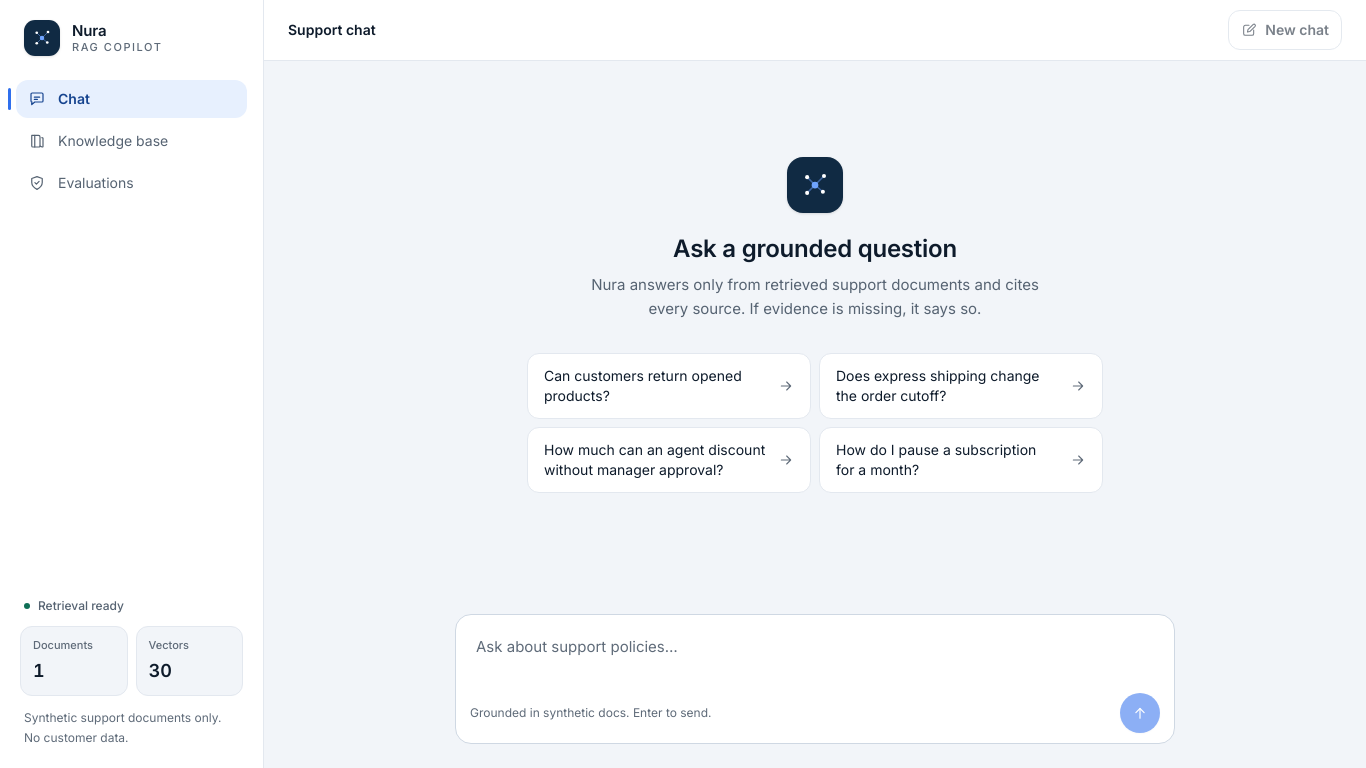
RagVisibilityDashboard › clears the transcript when a new chat is started
Type "Can customers return opened products?" into the text box named "Question" at [815, 655], box [464,623,1166,687]
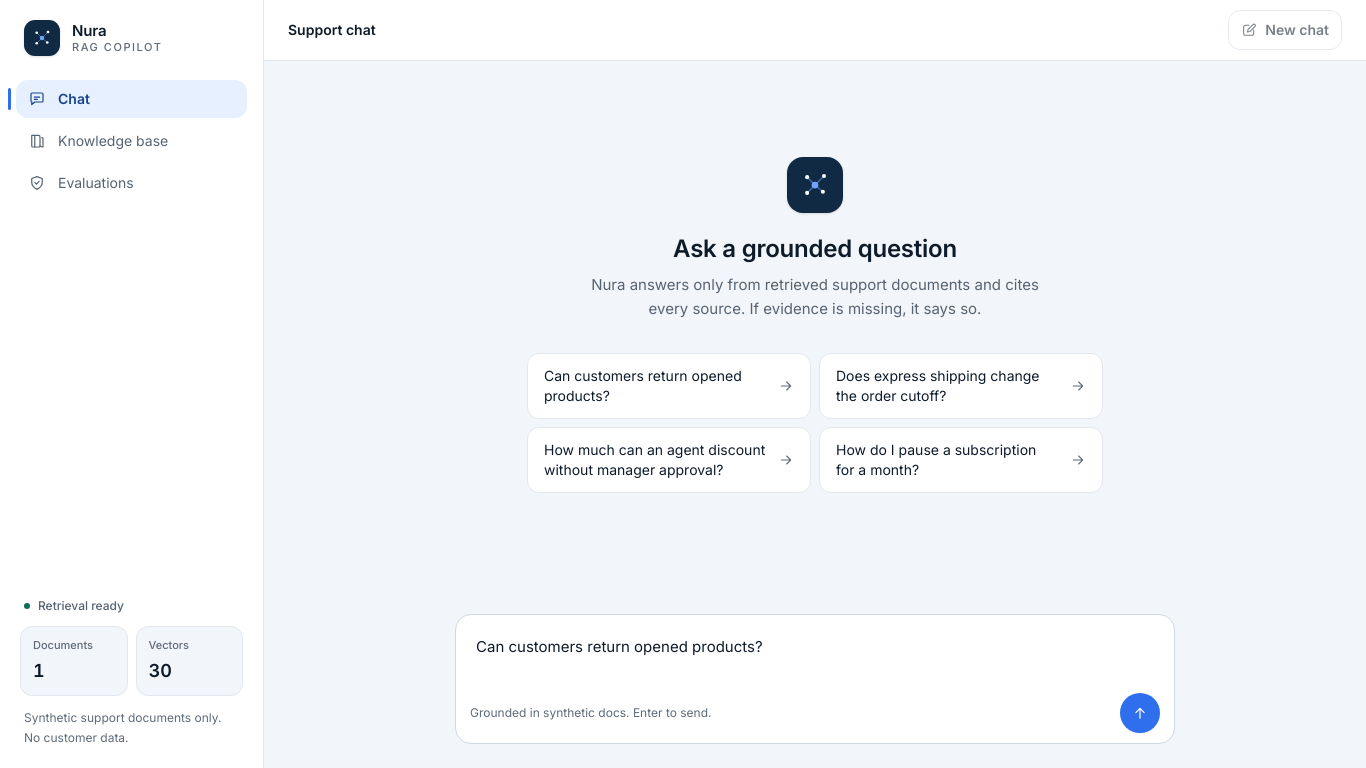
Click the button named "Generate answer" at [1140, 713], box [1120,693,1160,733]
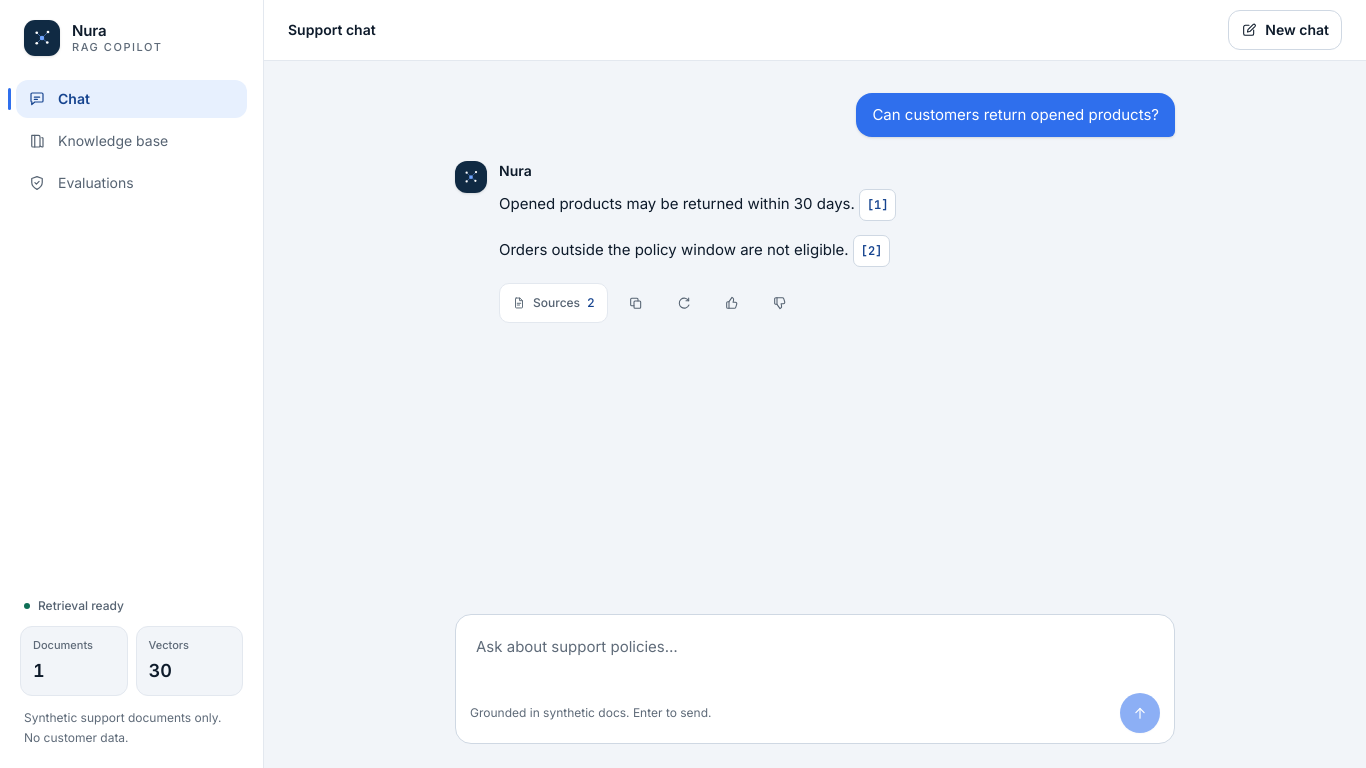
Result: the text "Opened products may be returned within 30 days." is shown at [499,194,855,213]
Click the button "New chat" at [1285, 30], box [1228,10,1342,50]
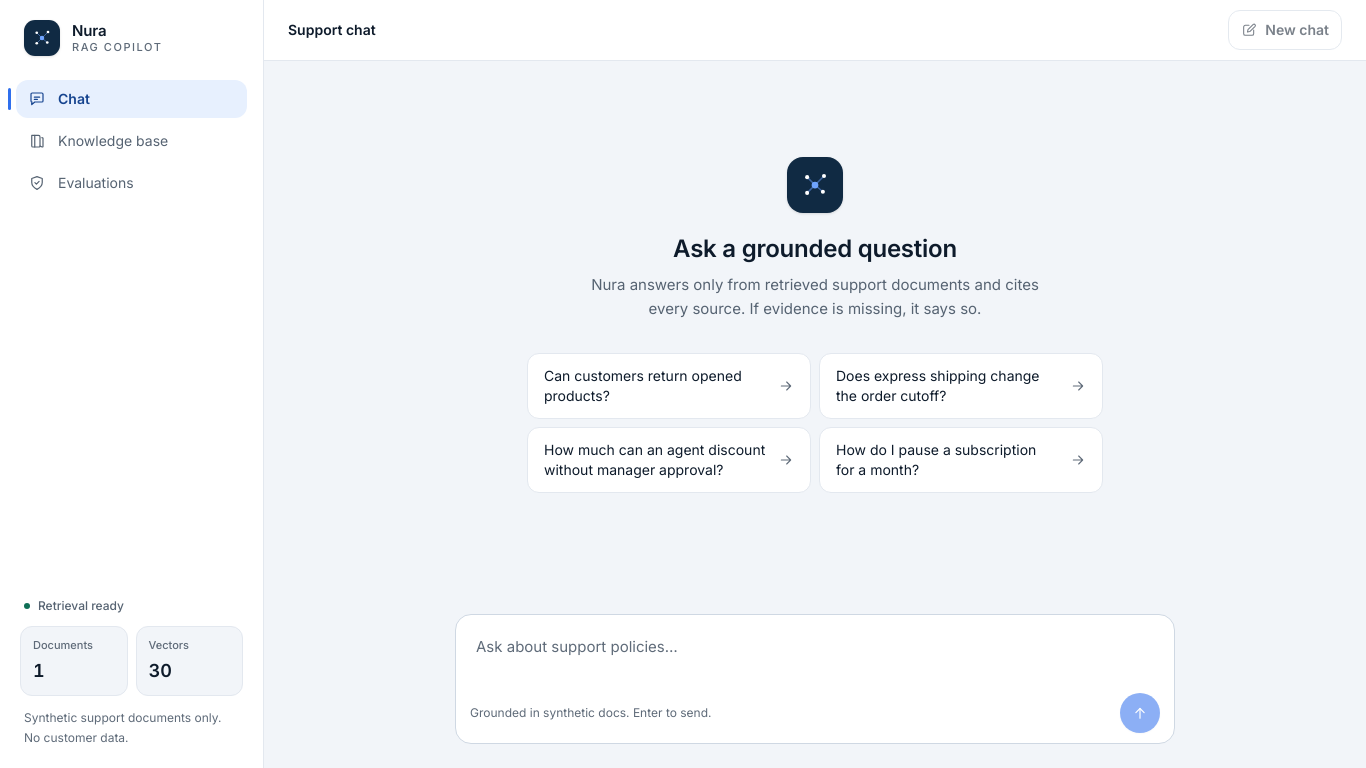
Result: the heading "Ask a grounded question" is shown at [673,233,957,265]
Result: the text "Opened products may be returned within 30 days." is gone
